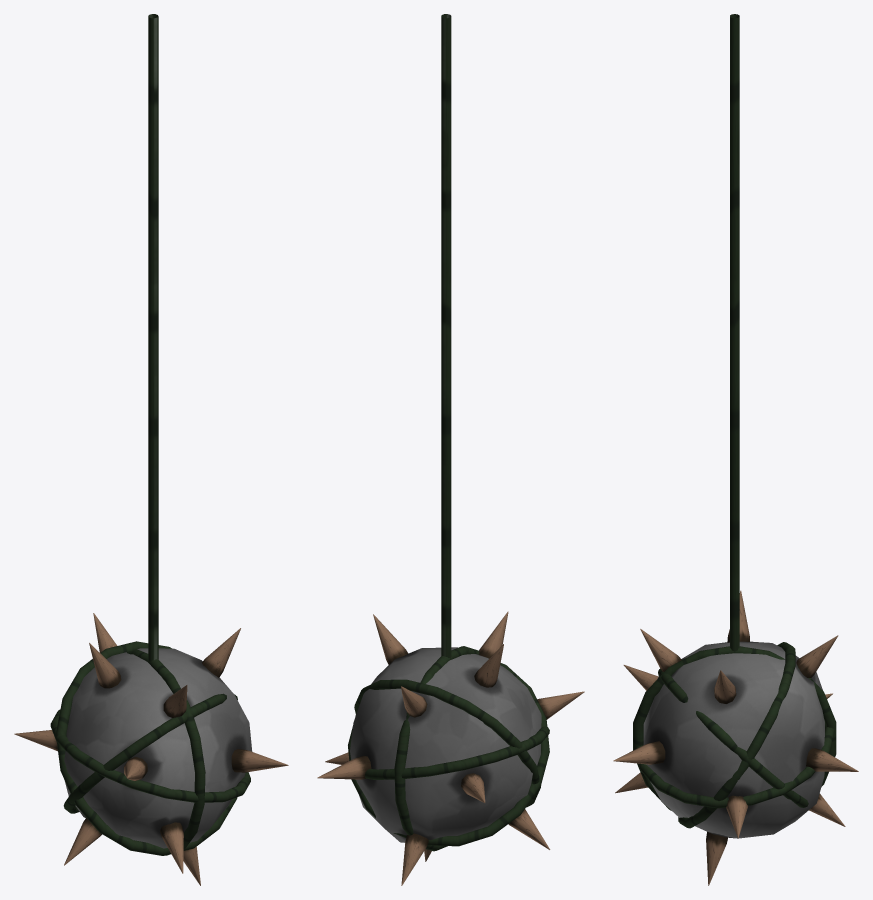
File: bola_pinchos.fbx
3 renders of one model, left to right at view 1: azimuth 30°, elevation 25°; view 2: azimuth 150°, elevation 25°; view 3: azimuth 270°, elevation 25°, orthographic.
Visible parts, largest first — view 1: bola2:Group2, pCylinder14, pTorus2, pTorus1, pTorus4, pTorus3, pCylinder5, pCylinder9, pCylinder4, pCylinder1, pCylinder10, pCylinder7; view 2: bola2:Group2, pCylinder14, pTorus3, pTorus2, pTorus1, pTorus4, pCylinder3, pCylinder12, pCylinder4, pCylinder1, pCylinder8, pCylinder7 (+1 smaller); view 3: bola2:Group2, pCylinder14, pTorus4, pTorus2, pTorus1, pTorus3, pCylinder5, pCylinder3, pCylinder2, pCylinder13, pCylinder7, pCylinder6 (+1 smaller).
Boxes of the visible parts, bbox=[...] form: bola2:Group2: bbox=[64, 648, 252, 848]; pCylinder14: bbox=[148, 14, 158, 662]; pTorus2: bbox=[56, 641, 237, 855]; pTorus1: bbox=[50, 709, 250, 802]; pTorus4: bbox=[127, 649, 205, 855]; pTorus3: bbox=[63, 693, 237, 813]; pCylinder5: bbox=[231, 749, 288, 772]; pCylinder9: bbox=[160, 822, 183, 873]; pCylinder4: bbox=[202, 628, 240, 677]; pCylinder1: bbox=[89, 643, 121, 688]; pCylinder10: bbox=[64, 818, 101, 865]; pCylinder7: bbox=[163, 685, 187, 717]; bola2:Group2: bbox=[350, 647, 541, 842]; pCylinder14: bbox=[441, 14, 451, 659]; pTorus3: bbox=[348, 663, 549, 846]; pTorus2: bbox=[354, 679, 541, 807]; pTorus1: bbox=[365, 726, 549, 779]; pTorus4: bbox=[394, 646, 479, 851]; pCylinder3: bbox=[317, 755, 371, 779]; pCylinder12: bbox=[401, 833, 428, 885]; pCylinder4: bbox=[373, 614, 408, 664]; pCylinder1: bbox=[474, 644, 503, 687]; pCylinder8: bbox=[537, 691, 584, 719]; pCylinder7: bbox=[479, 611, 508, 658]; bola2:Group2: bbox=[643, 641, 824, 838]; pCylinder14: bbox=[730, 14, 739, 652]; pTorus4: bbox=[633, 646, 836, 810]; pTorus2: bbox=[678, 642, 795, 828]; pTorus1: bbox=[635, 722, 834, 808]; pTorus3: bbox=[658, 669, 808, 807]; pCylinder5: bbox=[613, 741, 665, 764]; pCylinder3: bbox=[806, 748, 858, 771]; pCylinder2: bbox=[796, 635, 838, 677]; pCylinder13: bbox=[706, 832, 727, 885]; pCylinder7: bbox=[640, 629, 681, 671]; pCylinder6: bbox=[726, 795, 747, 838].
Bounding box in the file's own units: 2.34 × 8.96 × 2.34.
1 material, 1 textured.
